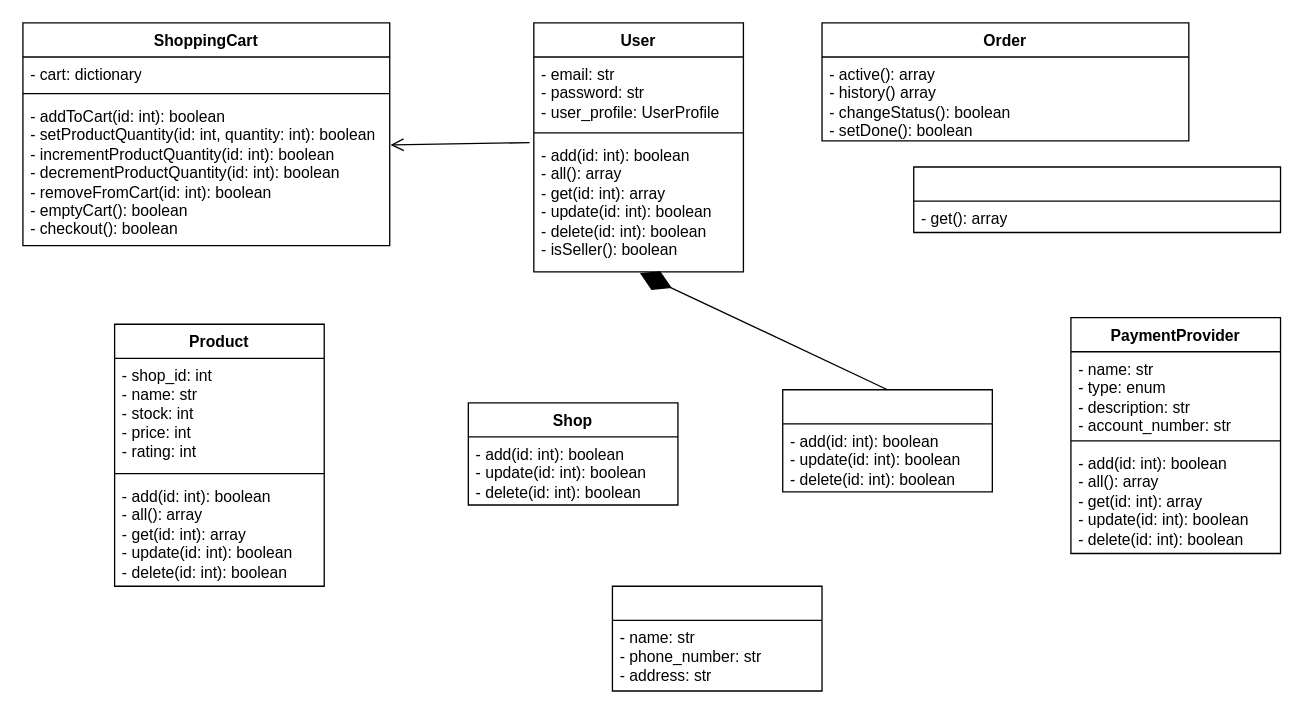
The diagram is 1303 pixels wide and 718 high, and some of its shapes have lost their labels. Here are the shapes that lost their labels. From the top down, the box of each, then its label:
(912, 166, 1281, 233): OrderTrackingHistory
(781, 388, 992, 492): UserProfile
(611, 585, 822, 691): Profile
